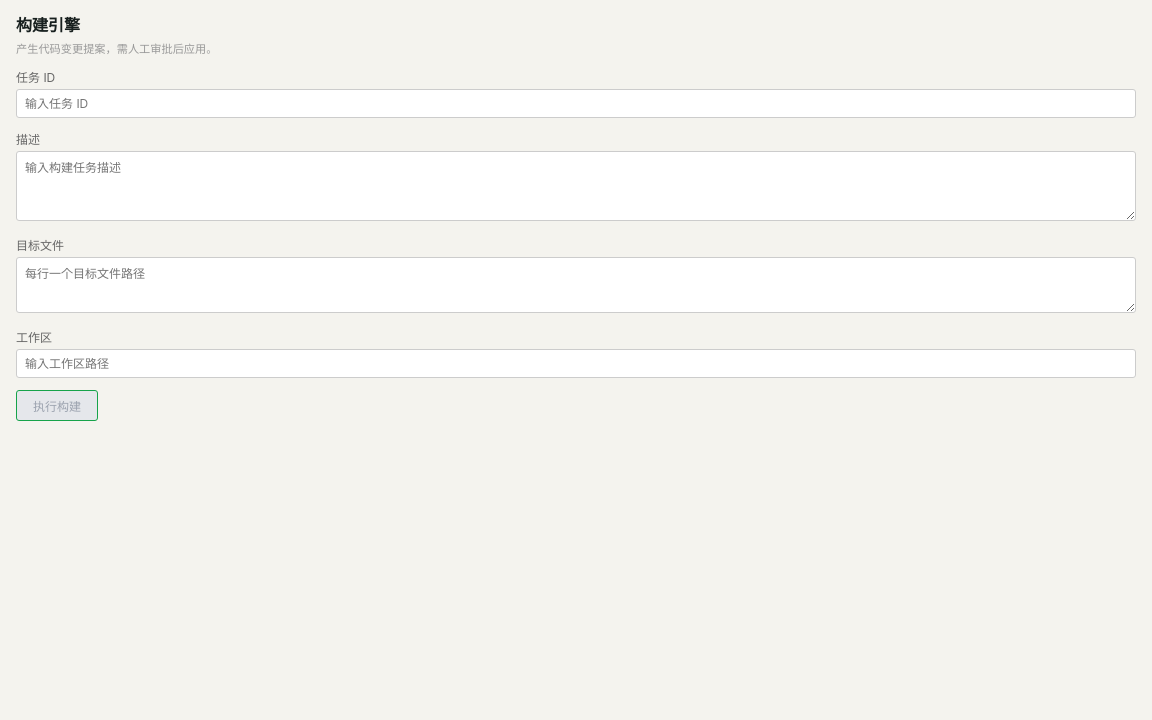
it: BuilderPanel › shows proposal status
Type "t1" into the field with placeholder "输入任务 ID" at {"x": 576, "y": 104}, box [16,89,1136,118]
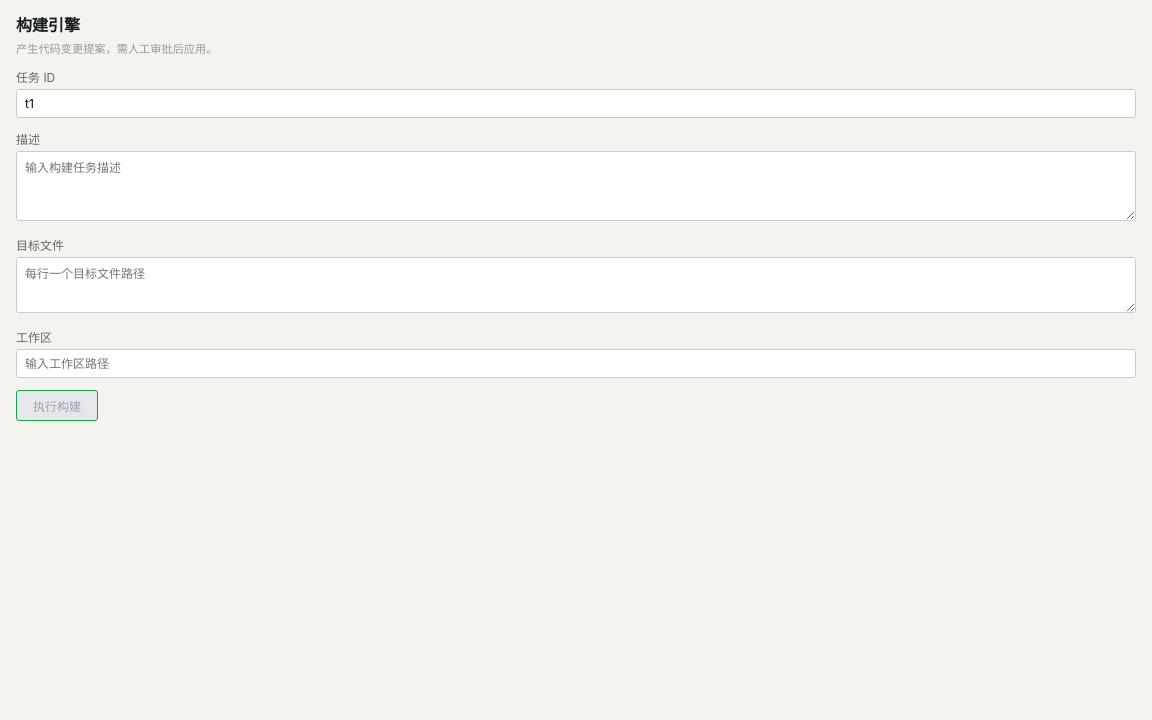
Type "desc" into the text box with placeholder "输入构建任务描述" at {"x": 576, "y": 186}, box [16,151,1136,221]
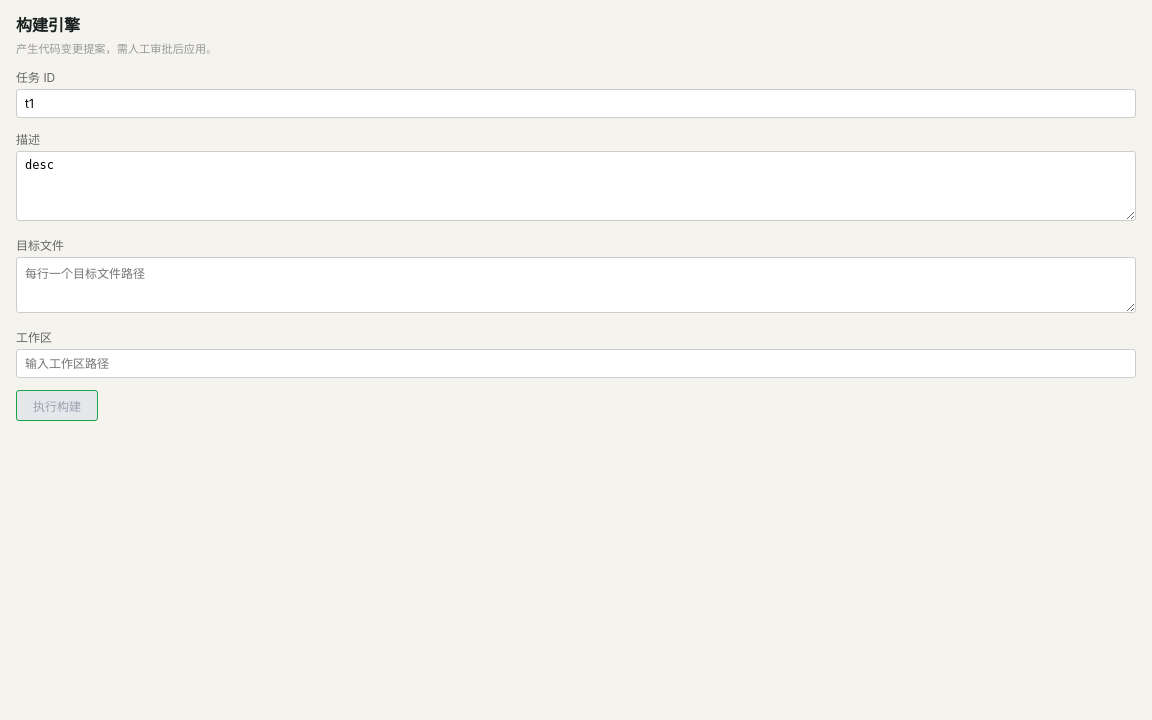
Type "/ws" into the field with placeholder "输入工作区路径" at {"x": 576, "y": 364}, box [16,349,1136,378]
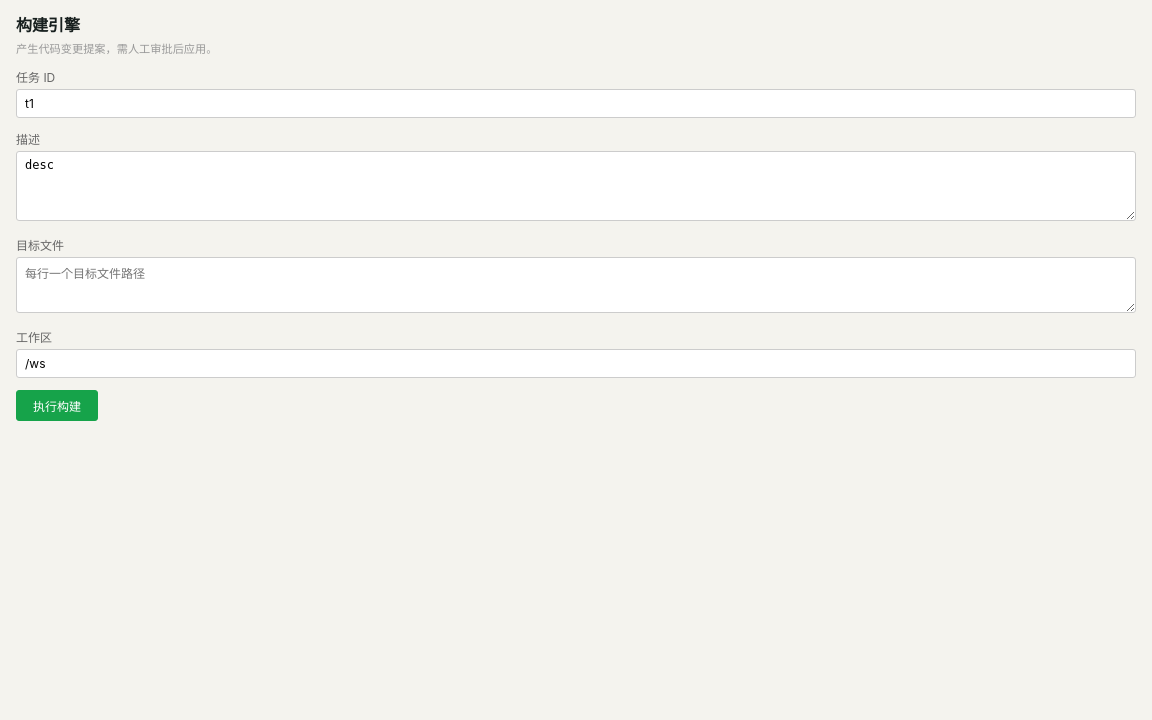
Click the button "执行构建" at {"x": 57, "y": 406}, box [16,390,98,421]
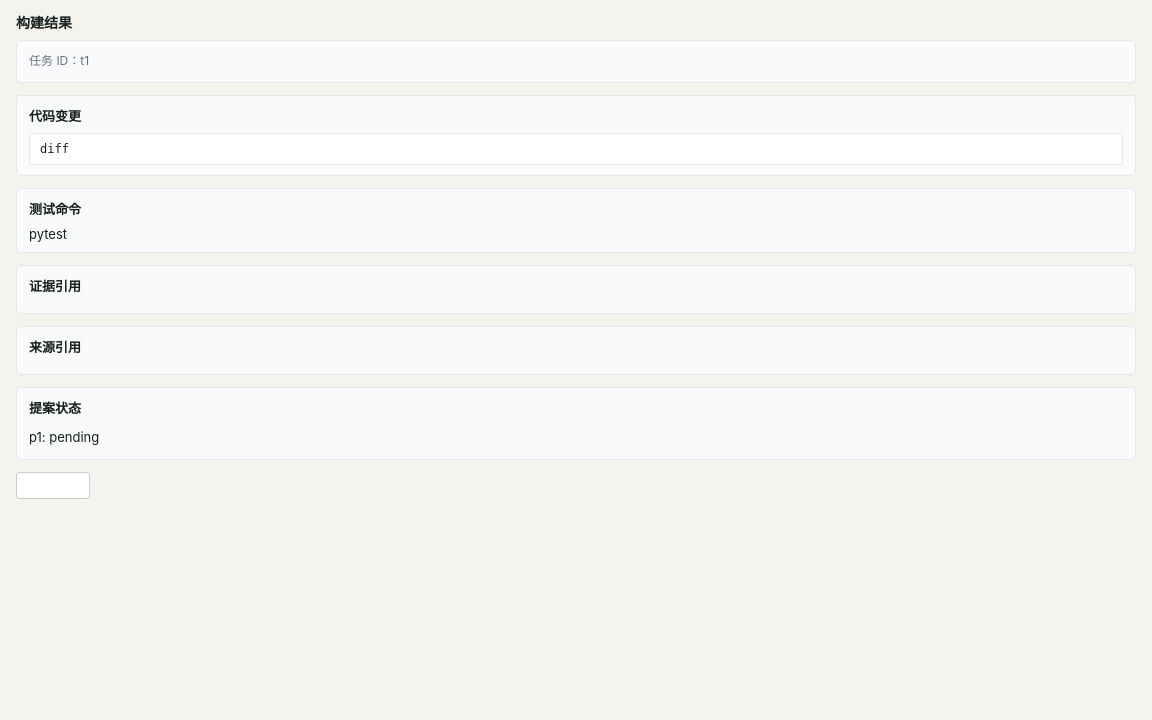
Check: the text "提案状态" is shown, box [29,400,81,416]
Check: the text "p1: pending" is shown, box [29,429,99,445]
